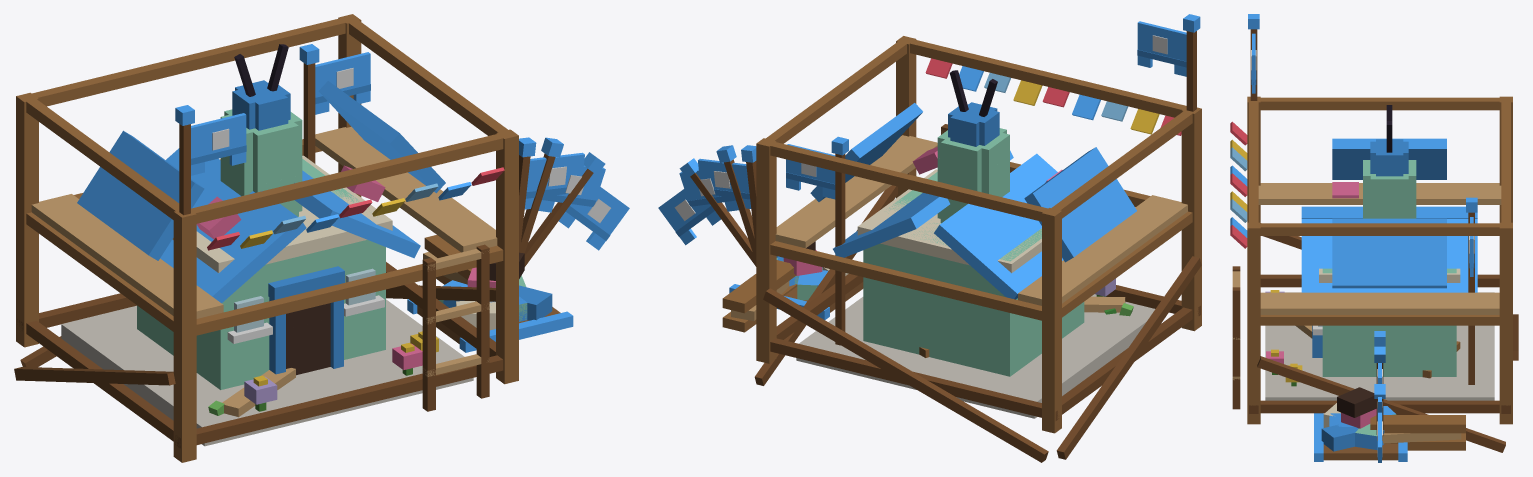
The model's file is butterfly-home.glb.
3 views of the same model, side by side, from view 1: azimuth 30°, elevation 25°; view 2: azimuth 150°, elevation 25°; view 3: azimuth 270°, elevation 25° (orthographic). The views are drawn at different scales.
Visible parts, largest first — view 1: scaffold-mesh, built-mesh, dismantle-25-mesh, dismantle-75-mesh, scaffold-banner, dismantle-50-mesh, banner, dismantle-25-banner, dismantle-75-banner, flag-pole, dismantle-50-banner, dismantle-25-flag-pole (+3 smaller); view 2: scaffold-mesh, built-mesh, dismantle-75-mesh, dismantle-25-mesh, scaffold-banner, flag-pole, dismantle-25-banner, dismantle-50-mesh, dismantle-75-banner, banner, dismantle-25-flag-pole, scaffold-flag-pole (+3 smaller); view 3: scaffold-mesh, built-mesh, dismantle-25-mesh, dismantle-50-mesh, dismantle-75-mesh, flag-pole, scaffold-flag-pole, scaffold-banner.
Part boxes in pixels (x1,y1,x2,y2): scaffold-mesh: (14, 14, 518, 462); built-mesh: (77, 44, 445, 415); dismantle-25-mesh: (61, 252, 573, 446); dismantle-75-mesh: (162, 143, 572, 411); scaffold-banner: (191, 113, 246, 175); dismantle-50-mesh: (212, 275, 551, 415); banner: (315, 52, 370, 114); dismantle-25-banner: (559, 187, 629, 250); dismantle-75-banner: (524, 152, 584, 209); flag-pole: (299, 44, 319, 163); dismantle-50-banner: (538, 165, 605, 217); dismantle-25-flag-pole: (524, 152, 605, 266); scaffold-mesh: (722, 36, 1201, 462); built-mesh: (810, 70, 1136, 376); dismantle-75-mesh: (729, 147, 1131, 418); dismantle-25-mesh: (776, 241, 1155, 401); scaffold-banner: (1137, 21, 1186, 76); flag-pole: (831, 136, 848, 345); dismantle-25-banner: (658, 184, 720, 245); dismantle-50-mesh: (729, 256, 1131, 417); dismantle-75-banner: (698, 158, 751, 208); banner: (786, 144, 835, 199); dismantle-25-flag-pole: (679, 158, 756, 266); scaffold-flag-pole: (1183, 14, 1200, 111); scaffold-mesh: (1230, 96, 1518, 452); built-mesh: (1265, 105, 1477, 382); dismantle-25-mesh: (1265, 292, 1494, 459); dismantle-50-mesh: (1265, 325, 1494, 461); dismantle-75-mesh: (1266, 182, 1416, 461); flag-pole: (1466, 197, 1477, 384); scaffold-flag-pole: (1248, 14, 1259, 100); scaffold-banner: (1251, 33, 1256, 93).
Size of the model in its own units: 2.59 by 1.77 by 1.51.
